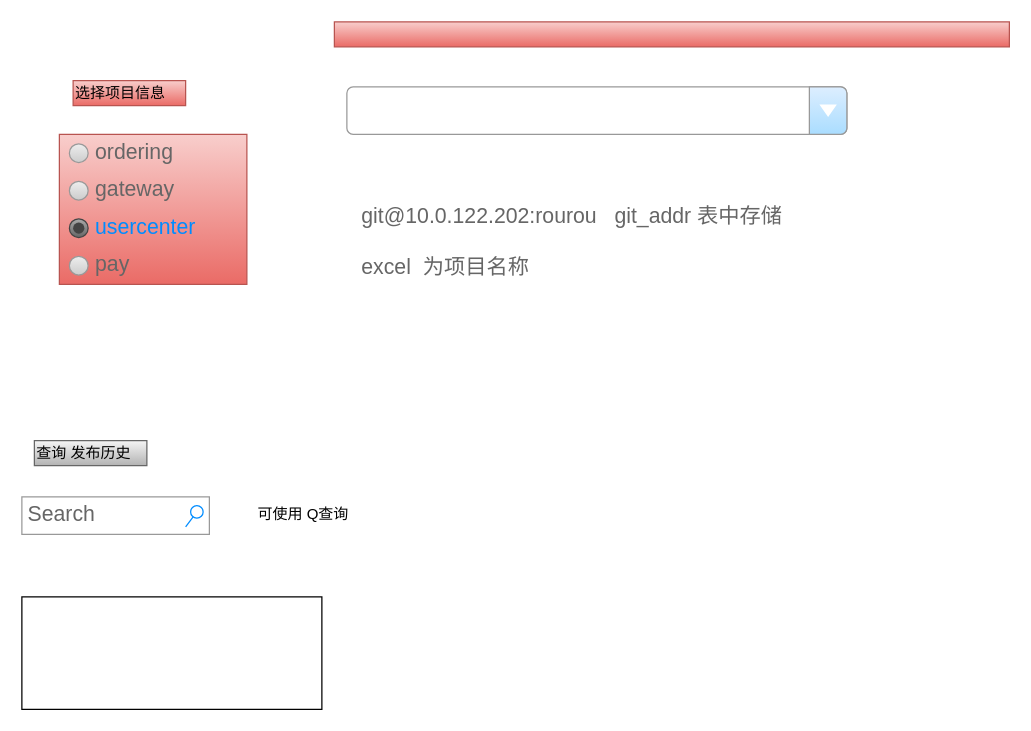
Image size: 1031x731. Some labels were removed from this diagram. Each missing label, with the centre of its shape:
Git 地址信息，通过存储git源地址信息。 之后拼接 + 项目名称（服务名称）: the point at 671,34
git@10.0.122.202:rourou/excel.git: the point at 596,110
版本信息 发布时间 row 1, cell 1 row 1, cell 2 row 2, cell 1 row 2, cell 2: the point at 171,652
